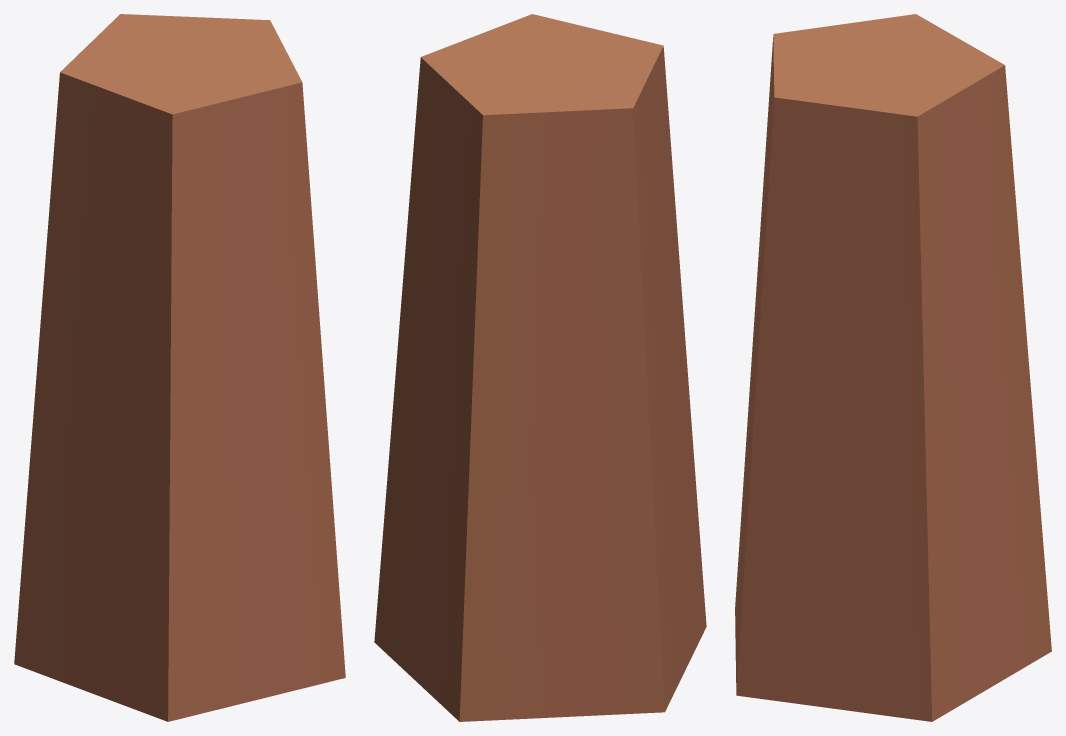
File: tree_single_a_cut.glb
The picture shows the model from 3 angles, left to right: view 1: azimuth 30°, elevation 25°; view 2: azimuth 150°, elevation 25°; view 3: azimuth 270°, elevation 25°; orthographic projection.
Parts seen in each view (by area): view 1: tree_single_A_cut; view 2: tree_single_A_cut; view 3: tree_single_A_cut.
Part boxes in pixels (x1,y1,x2,y2): tree_single_A_cut: (14, 14, 345, 721); tree_single_A_cut: (374, 14, 706, 721); tree_single_A_cut: (735, 14, 1051, 721).
Size of the model in its own units: 0.1697 by 0.3302 by 0.1617.
1 material, 1 textured.
